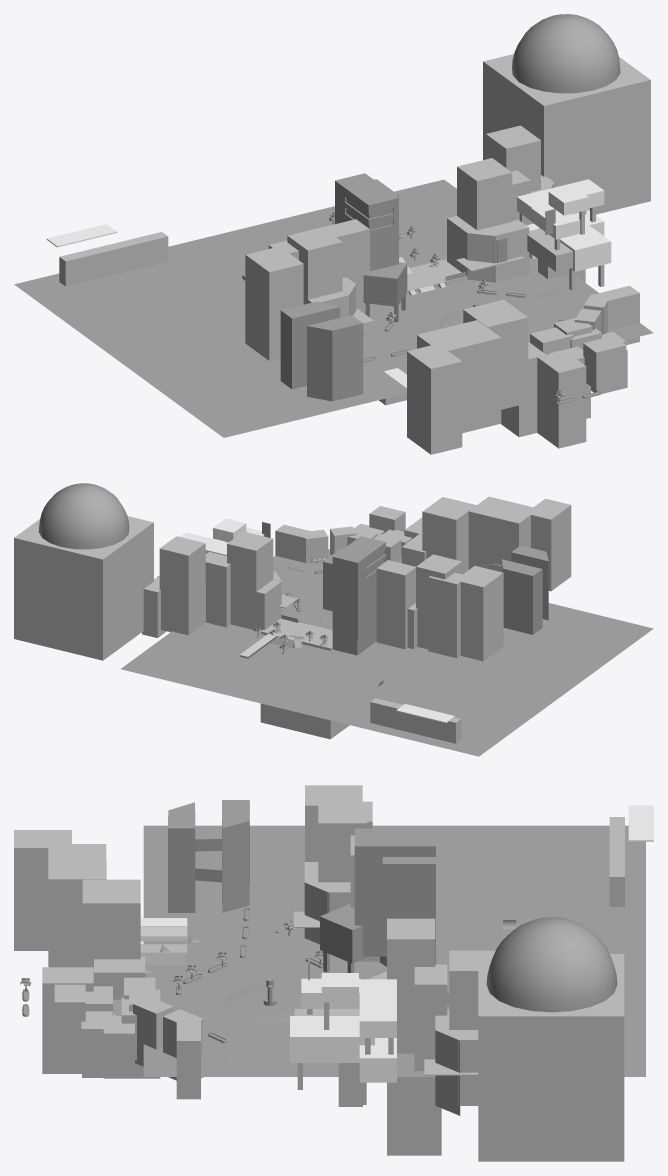
File: city.fbx
The picture shows the model from 3 angles, top to bottom: view 1: azimuth 30°, elevation 25°; view 2: azimuth 150°, elevation 25°; view 3: azimuth 270°, elevation 25°; orthographic projection. The views are drawn at different scales.
Visible parts, largest first — view 1: pPlane1, Cube_13_2, Cube_16_, pCube44, pSphere2, City_Greybox_3:Cube_105_, pCube43, Cube_13_32, Cube_128_3, Cube_13_15, Cube_16_1, Cube_13_30 (+11 smaller); view 2: pPlane1, Cube_13_2, pCube43, Cube_16_2, pSphere2, Cube_16_, Cube_128_3, pCube44, Cube_128_1, Cube_13_32, Cube_13_30, Cube_128_2 (+14 smaller); view 3: pPlane1, Cube_13_2, pCube43, City_Greybox_3:Cube_105_, pSphere2, pCube44, Cube_16_2, Cube_16_1, Cube_13_30, Cube_13_32, Cube_16_, Cube_13_29 (+19 smaller).
Boxes of the visible parts, <box> form: pPlane1: <box>14,179,653,437</box>; Cube_13_2: <box>483,54,650,214</box>; Cube_16_: <box>447,158,529,282</box>; pCube44: <box>280,301,363,401</box>; pSphere2: <box>512,14,620,93</box>; City_Greybox_3:Cube_105_: <box>517,179,611,290</box>; pCube43: <box>335,173,407,322</box>; Cube_13_32: <box>407,344,462,454</box>; Cube_128_3: <box>245,246,303,360</box>; Cube_13_15: <box>537,350,586,448</box>; Cube_16_1: <box>287,227,373,323</box>; Cube_13_30: <box>463,299,528,409</box>; pPlane1: <box>120,549,653,756</box>; Cube_13_2: <box>14,516,153,660</box>; pCube43: <box>323,536,385,655</box>; Cube_16_2: <box>142,536,205,637</box>; pSphere2: <box>38,483,129,549</box>; Cube_16_: <box>227,531,298,629</box>; Cube_128_3: <box>456,566,503,661</box>; pCube44: <box>502,545,548,634</box>; Cube_128_1: <box>376,560,415,649</box>; Cube_13_32: <box>525,498,571,591</box>; Cube_13_30: <box>422,497,476,574</box>; Cube_128_2: <box>428,572,467,658</box>; pPlane1: <box>113,825,645,1076</box>; Cube_13_2: <box>478,954,624,1161</box>; pCube43: <box>320,828,435,972</box>; City_Greybox_3:Cube_105_: <box>290,973,396,1104</box>; pSphere2: <box>486,917,617,1012</box>; pCube44: <box>168,800,249,912</box>; Cube_16_2: <box>424,950,495,1115</box>; Cube_16_1: <box>293,803,367,944</box>; Cube_13_30: <box>82,879,140,985</box>; Cube_13_32: <box>14,830,71,950</box>; Cube_16_: <box>368,918,435,1053</box>; Cube_13_29: <box>48,861,106,967</box>.
Size of the model in its own units: 2088 by 969 by 1706.
